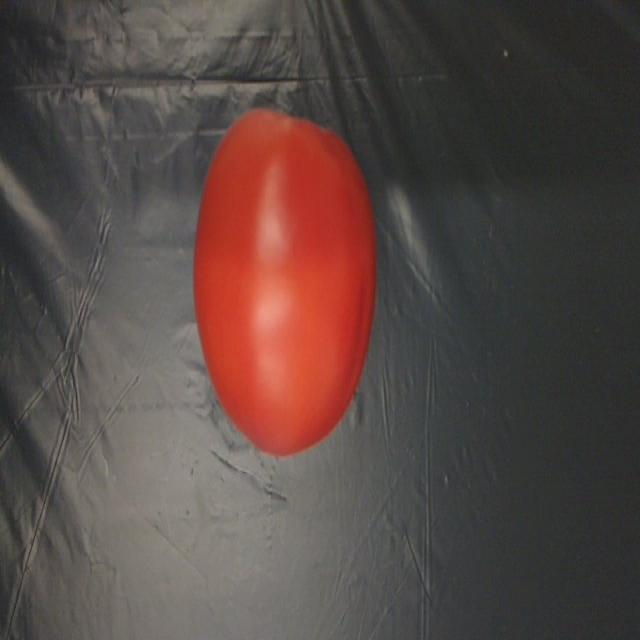kirmizi: (192, 84, 382, 474)
